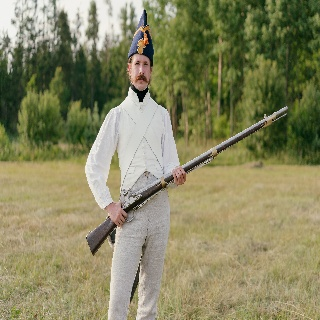rifle: (85, 106, 289, 256)
